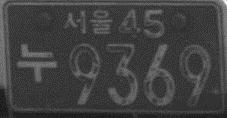3: (104, 42, 137, 106)
4: (117, 9, 141, 40)
5: (142, 8, 165, 39)
6: (141, 42, 176, 107)
9: (66, 41, 101, 105), (178, 42, 211, 106)
누: (15, 42, 58, 83)
서울_O: (62, 9, 113, 35)
